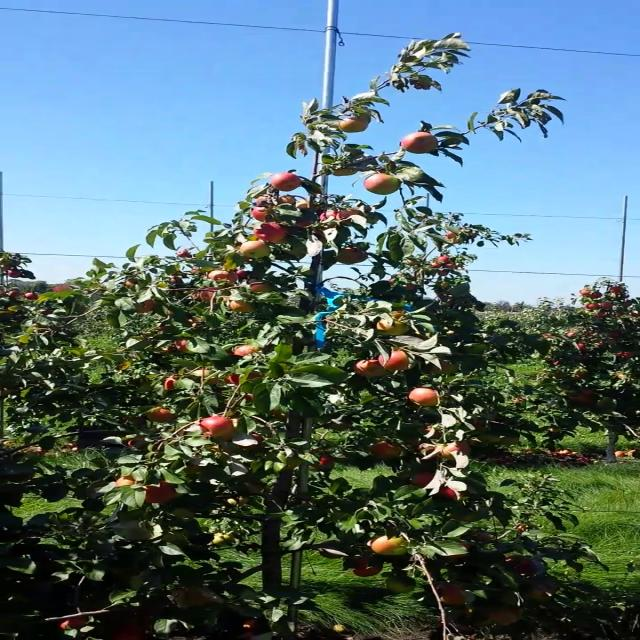apple: (400, 130, 439, 154), (362, 172, 402, 194), (370, 535, 408, 557), (438, 585, 476, 606), (141, 480, 175, 503), (198, 416, 236, 436), (377, 350, 409, 372), (252, 222, 286, 242), (225, 433, 265, 450), (488, 606, 521, 626), (270, 171, 302, 191), (351, 359, 386, 377), (439, 440, 470, 460), (351, 557, 382, 577), (108, 624, 146, 640), (334, 247, 367, 265), (409, 387, 438, 407), (238, 241, 270, 259), (375, 319, 409, 335), (443, 539, 470, 559), (502, 554, 532, 572), (385, 576, 415, 594), (369, 442, 401, 458), (428, 360, 462, 375), (56, 615, 87, 631), (251, 206, 280, 223), (228, 371, 263, 385), (337, 117, 369, 132), (205, 269, 239, 283), (522, 586, 556, 600), (569, 388, 597, 404), (147, 408, 175, 422), (410, 472, 434, 488), (191, 370, 218, 384), (124, 616, 150, 629), (438, 486, 462, 500), (232, 344, 259, 356), (115, 476, 142, 488), (228, 300, 254, 312), (201, 287, 223, 301), (212, 533, 234, 547), (335, 209, 365, 219), (134, 299, 155, 313), (451, 512, 480, 522), (317, 453, 335, 469), (252, 194, 272, 207), (162, 376, 178, 392), (250, 282, 274, 292), (463, 344, 487, 354), (225, 496, 248, 506), (472, 532, 491, 544), (242, 620, 258, 634), (331, 168, 358, 176), (423, 425, 441, 437), (319, 210, 338, 220), (276, 194, 294, 204), (571, 369, 589, 379), (126, 438, 143, 448), (174, 339, 188, 351), (294, 198, 310, 208), (386, 310, 402, 320), (418, 444, 434, 454), (184, 465, 204, 473), (7, 268, 22, 278), (52, 286, 71, 293), (608, 331, 624, 339), (614, 352, 632, 359), (124, 278, 138, 286), (599, 302, 613, 310), (293, 221, 311, 227), (175, 249, 188, 257), (579, 288, 592, 296), (572, 342, 586, 349), (465, 232, 477, 240), (438, 282, 450, 290), (609, 286, 622, 293), (586, 303, 599, 310), (547, 359, 560, 366), (235, 270, 246, 278), (438, 268, 449, 276), (386, 278, 398, 285), (436, 296, 450, 302), (565, 332, 578, 338), (404, 284, 417, 290), (7, 290, 20, 296), (629, 311, 640, 318), (438, 256, 449, 263), (244, 393, 253, 401), (584, 330, 596, 336), (428, 263, 440, 269), (24, 292, 36, 298), (592, 292, 602, 299), (169, 278, 180, 284), (446, 231, 457, 237), (156, 324, 164, 332), (516, 526, 526, 532), (595, 312, 605, 318), (451, 238, 461, 244), (0, 288, 6, 297), (446, 264, 456, 269), (187, 318, 196, 323)
